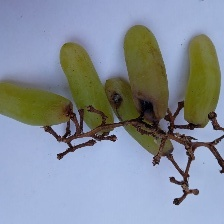grapes: (42, 45, 187, 219)
